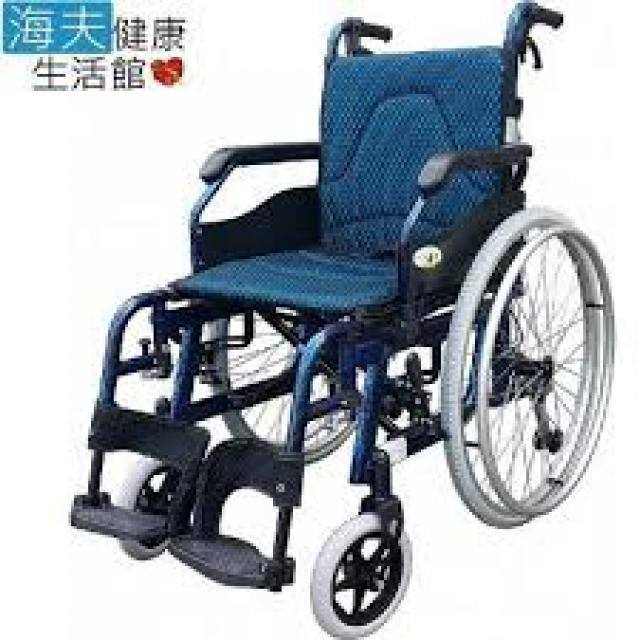wheelchair: (68, 0, 620, 637)
